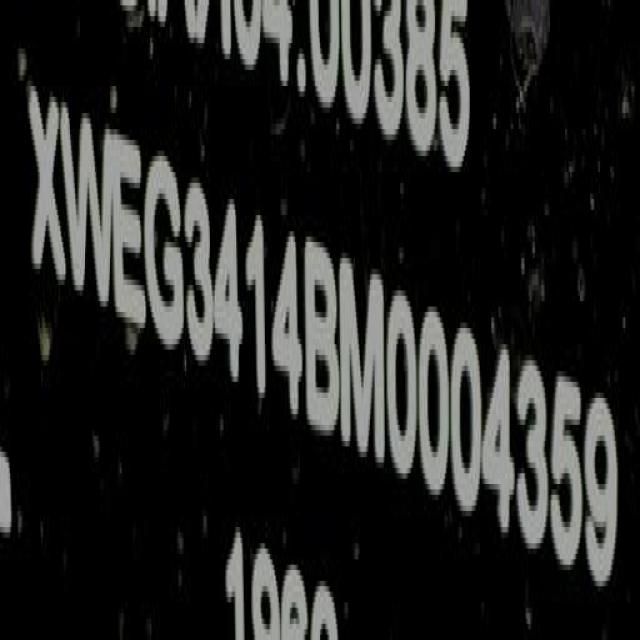0: (383, 275, 419, 486), (416, 308, 449, 504), (451, 320, 483, 520)
1: (246, 216, 270, 406)
3: (516, 355, 550, 556), (185, 180, 214, 367)
4: (482, 334, 516, 550), (272, 227, 304, 423), (212, 200, 242, 386)
5: (551, 370, 585, 579)
9: (584, 390, 622, 594)
B: (303, 241, 342, 437)
E: (112, 132, 146, 334)
G: (142, 155, 183, 356)
M: (342, 257, 387, 466)
W: (63, 101, 114, 312)
X: (27, 89, 66, 294)
